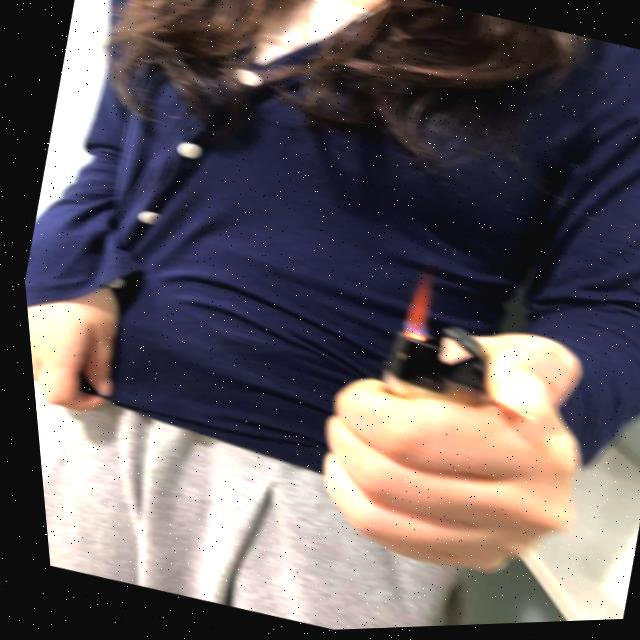Fire: (390, 275, 434, 337)
